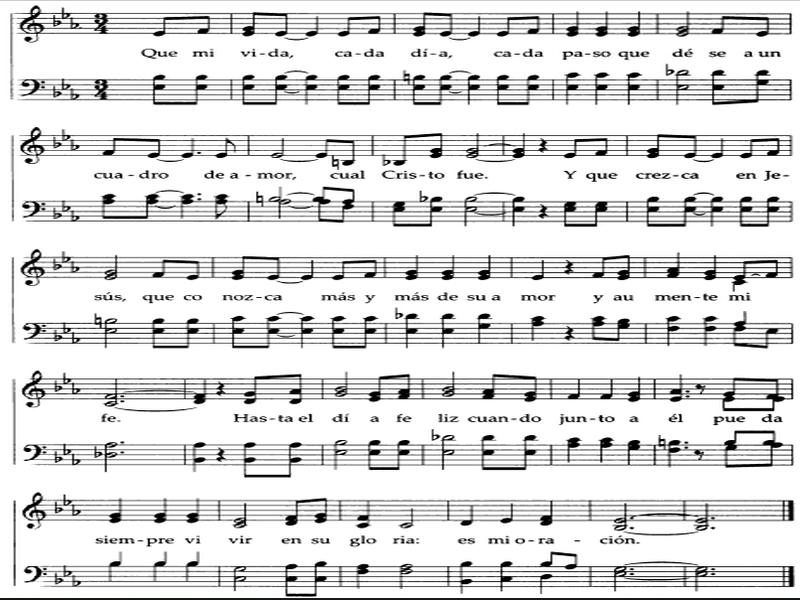B: (322, 434, 354, 474), (322, 372, 359, 398), (101, 249, 125, 289), (393, 558, 421, 592), (674, 10, 699, 41), (227, 503, 257, 528), (674, 70, 695, 105), (100, 374, 119, 411), (460, 130, 484, 159), (439, 434, 458, 470), (227, 563, 251, 591), (462, 191, 480, 228), (694, 496, 711, 534), (443, 372, 464, 400), (612, 502, 630, 532), (608, 565, 627, 590), (272, 134, 288, 160), (694, 563, 707, 593), (401, 506, 417, 529), (268, 184, 285, 202), (278, 197, 290, 222), (108, 441, 117, 470)
Bem: (49, 570, 62, 590), (47, 134, 61, 152), (68, 329, 82, 347), (87, 444, 101, 462), (49, 327, 64, 343), (375, 153, 392, 167), (62, 488, 73, 509), (391, 305, 404, 322), (52, 449, 62, 470), (57, 4, 70, 20), (70, 209, 83, 225), (50, 378, 63, 394), (70, 504, 82, 521), (659, 64, 676, 76), (47, 260, 61, 274), (70, 578, 84, 592), (58, 126, 69, 143), (47, 14, 62, 26), (50, 206, 61, 222), (417, 187, 428, 203), (70, 137, 80, 154), (60, 564, 70, 581), (58, 322, 71, 335), (69, 19, 80, 34), (70, 384, 80, 400), (52, 500, 62, 516), (61, 444, 72, 458), (58, 250, 68, 265), (69, 92, 81, 104), (428, 430, 440, 442), (60, 200, 70, 214), (60, 78, 69, 92), (52, 86, 63, 96), (69, 265, 77, 278), (60, 374, 69, 384), (72, 457, 80, 467)
C: (278, 436, 307, 482), (355, 311, 383, 358), (202, 133, 242, 162), (278, 368, 306, 409), (327, 311, 351, 358), (584, 196, 617, 230), (515, 71, 545, 108), (517, 430, 540, 477), (384, 434, 411, 474), (473, 432, 497, 476), (148, 71, 174, 111), (703, 70, 727, 113), (182, 72, 209, 110), (749, 64, 774, 105), (256, 313, 281, 354), (641, 127, 671, 161), (584, 246, 611, 282), (480, 367, 507, 403), (147, 314, 169, 358), (258, 249, 283, 287), (241, 370, 266, 407), (637, 193, 665, 226), (311, 555, 332, 599), (329, 74, 356, 108), (421, 125, 451, 155), (279, 495, 304, 531), (677, 191, 700, 230), (225, 313, 247, 352), (267, 74, 290, 111), (275, 560, 299, 595), (240, 71, 259, 114), (755, 324, 784, 351), (725, 318, 748, 352), (308, 494, 334, 524), (364, 374, 388, 406), (242, 438, 260, 480), (232, 252, 257, 282), (363, 74, 385, 108), (560, 133, 584, 164), (136, 190, 160, 221), (759, 193, 779, 230), (150, 11, 174, 41), (238, 7, 262, 37), (409, 74, 433, 104), (390, 201, 414, 231), (174, 319, 198, 349), (364, 436, 382, 476), (733, 191, 751, 229), (395, 368, 414, 404), (192, 10, 216, 38), (210, 191, 234, 219), (558, 199, 579, 230), (149, 250, 173, 277), (429, 197, 447, 232), (588, 134, 613, 159), (750, 15, 777, 38), (433, 73, 453, 104), (613, 314, 633, 345), (496, 73, 514, 107), (98, 191, 117, 223), (181, 254, 200, 286), (102, 134, 122, 164), (332, 254, 354, 281), (522, 373, 541, 403), (714, 13, 735, 40), (720, 371, 741, 398), (359, 251, 377, 282), (413, 6, 432, 35), (687, 124, 701, 162), (717, 446, 740, 469), (395, 131, 411, 164), (616, 249, 631, 284), (307, 181, 333, 201), (337, 13, 356, 40), (589, 311, 604, 344), (497, 12, 515, 39), (343, 138, 358, 169), (271, 7, 287, 36), (363, 14, 383, 37), (733, 253, 750, 280), (537, 550, 560, 569), (441, 7, 455, 38), (763, 372, 779, 399), (723, 426, 747, 443), (317, 193, 330, 224), (567, 549, 583, 574), (765, 250, 779, 278), (335, 204, 352, 227), (527, 15, 543, 39), (741, 135, 757, 159), (769, 442, 785, 466), (147, 134, 164, 156), (317, 133, 331, 158), (767, 394, 782, 415), (719, 398, 738, 413), (762, 428, 777, 446), (770, 136, 781, 158), (346, 187, 357, 205)
CF: (21, 186, 48, 225), (18, 70, 47, 104), (22, 440, 48, 475), (20, 319, 49, 349), (25, 561, 46, 588)
CS: (17, 363, 49, 412), (17, 1, 47, 48), (22, 242, 47, 293), (20, 491, 49, 532), (22, 124, 47, 170)
N: (455, 308, 504, 356), (394, 312, 429, 352), (294, 310, 323, 349), (435, 307, 460, 352), (586, 66, 612, 109), (623, 67, 646, 108), (298, 67, 319, 111), (458, 554, 481, 594), (437, 249, 463, 284), (662, 313, 686, 350), (536, 495, 562, 529), (561, 64, 583, 104), (106, 489, 129, 527), (701, 308, 722, 348), (661, 249, 686, 282), (499, 555, 520, 594), (149, 487, 167, 532), (186, 494, 209, 529), (462, 72, 483, 110), (400, 252, 424, 284), (474, 246, 494, 284), (563, 435, 584, 471), (698, 250, 722, 281), (622, 437, 646, 468), (707, 194, 727, 231), (626, 369, 647, 404), (358, 497, 377, 533), (629, 7, 651, 38), (597, 373, 619, 404), (562, 8, 583, 40), (179, 127, 197, 164), (666, 368, 684, 405), (527, 314, 547, 346), (177, 188, 195, 223), (601, 435, 621, 466), (298, 254, 319, 283), (530, 254, 550, 284), (512, 127, 528, 164), (191, 440, 207, 476), (511, 190, 526, 228), (144, 560, 169, 582), (459, 503, 481, 528), (570, 376, 590, 402), (666, 436, 681, 470), (711, 133, 727, 164), (194, 374, 208, 408), (467, 11, 486, 36), (305, 11, 323, 37), (597, 4, 610, 38), (538, 570, 557, 593), (357, 564, 372, 592), (184, 562, 202, 584), (152, 551, 175, 568), (501, 502, 517, 526), (186, 549, 207, 567), (111, 564, 124, 586), (109, 554, 127, 567)
SN: (212, 439, 231, 466), (559, 321, 577, 343), (536, 198, 554, 220), (561, 256, 580, 276), (212, 377, 229, 399), (690, 449, 709, 464), (537, 136, 547, 155), (696, 384, 706, 397)
SOS: (254, 189, 269, 205), (91, 314, 105, 329), (658, 430, 667, 451)
